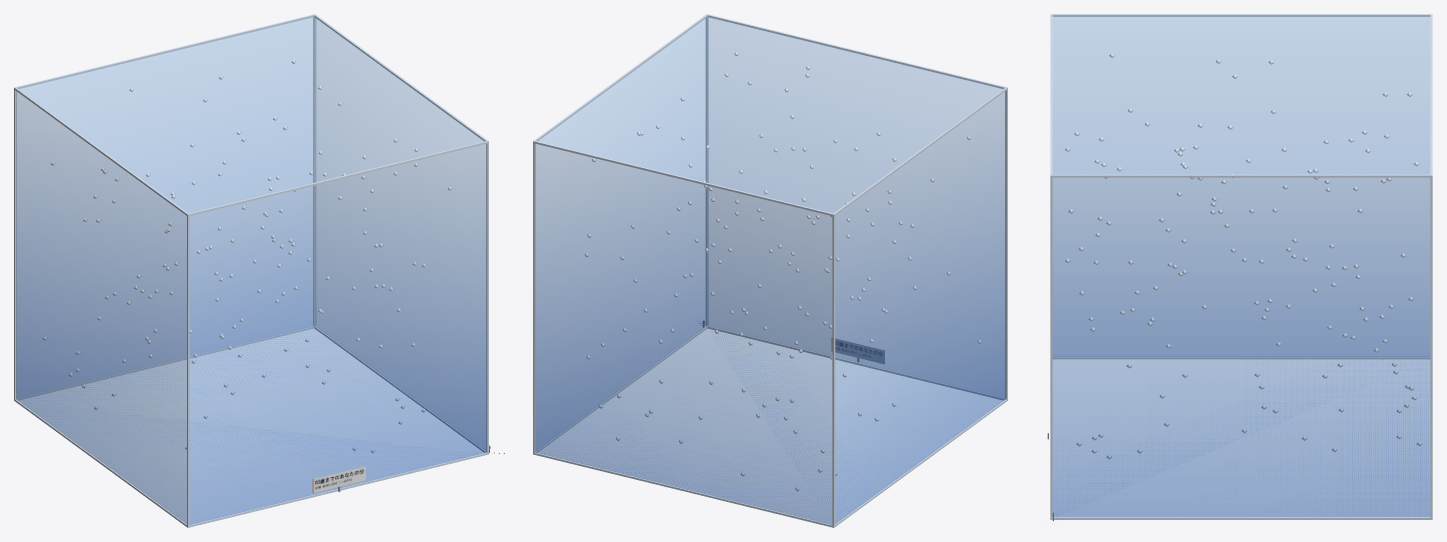
The model's file is cube_life_83.glb.
The picture shows the model from 3 angles, left to right: view 1: azimuth 30°, elevation 25°; view 2: azimuth 150°, elevation 25°; view 3: azimuth 270°, elevation 25°; orthographic projection. The views are drawn at different scales.
Visible parts, largest first — view 1: co2, edge, dots, label; view 2: co2, edge, dots, label; view 3: co2, edge, dots.
Boxes of the visible parts, x1=… form: co2: x1=16, y1=15, x2=486, y2=524; edge: x1=14, y1=14, x2=488, y2=527; dots: x1=43, y1=60, x2=451, y2=453; label: x1=312, y1=466, x2=365, y2=492; co2: x1=535, y1=15, x2=1005, y2=524; edge: x1=533, y1=14, x2=1007, y2=527; dots: x1=584, y1=52, x2=981, y2=491; label: x1=835, y1=339, x2=884, y2=364; co2: x1=1051, y1=14, x2=1430, y2=516; edge: x1=1050, y1=14, x2=1432, y2=519; dots: x1=1065, y1=53, x2=1421, y2=459.
Size of the model in its own units: 70.99 by 67.23 by 70.09.
Materials: 8 (3 with a texture image).
